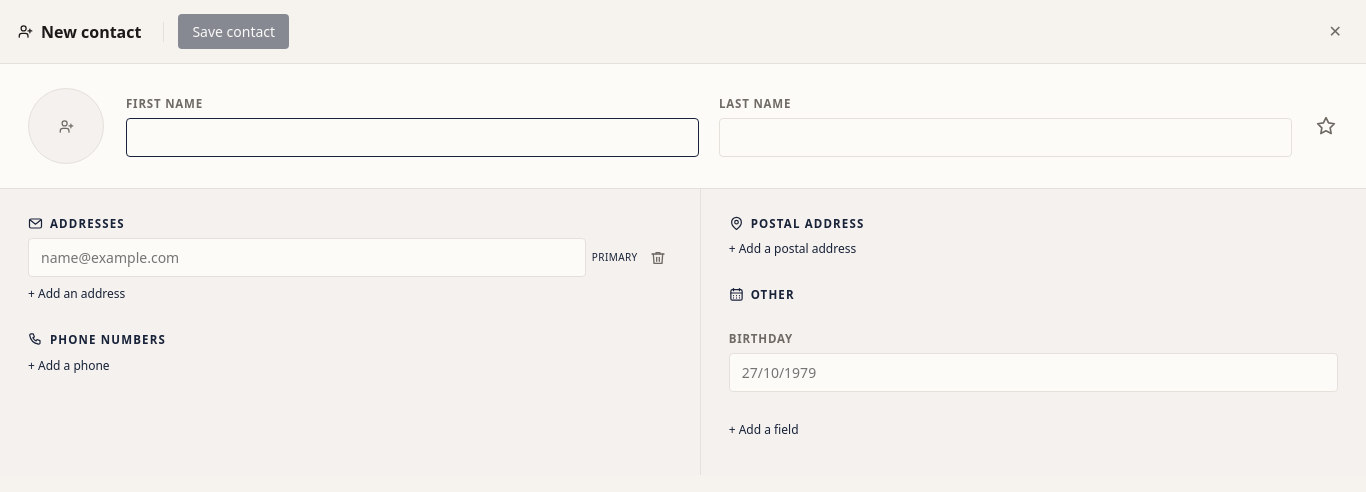
Scenario: ContactEditView › adds an address row on demand
The width and height of the screenshot is (1366, 492).
Click the button "+ Add an address". click: point(77, 294)
box: 28,283 -> 125,305
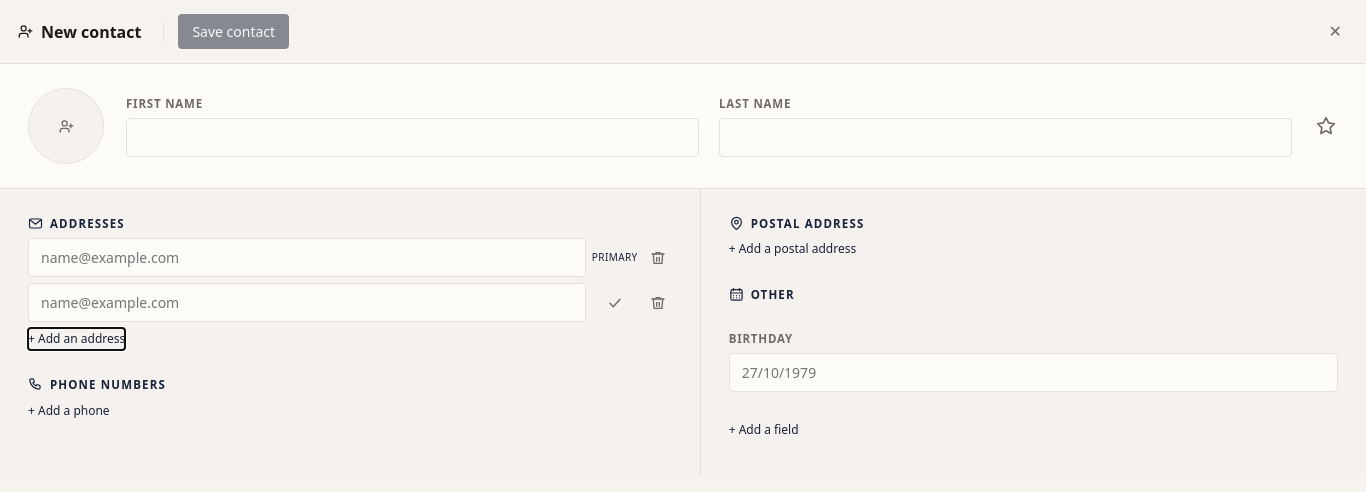
Expected: the field named "address 2" is shown, 28,283 -> 586,322
